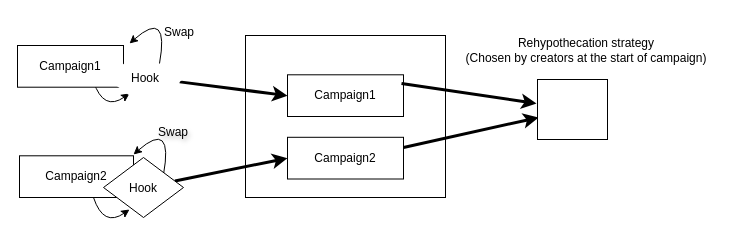
This 749x235 diagram has some shape labels left out. Each missing label, with the box of its shape:
Aave: (536, 78, 608, 140)
RehypothecationManager: (244, 34, 446, 198)
